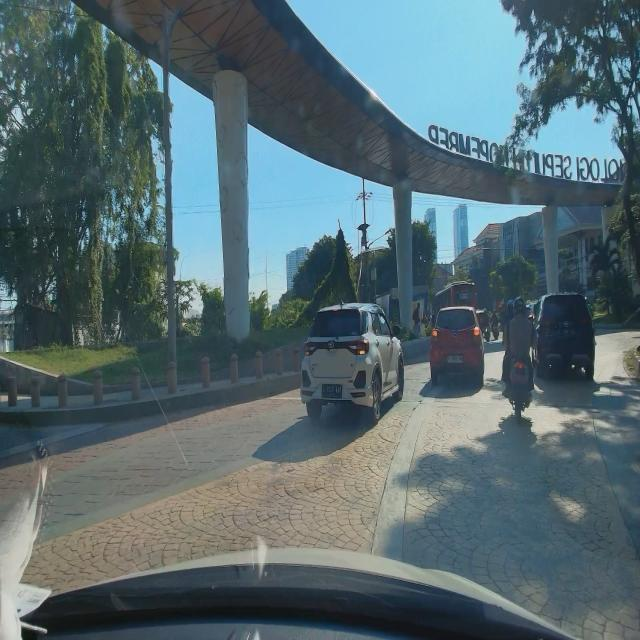car: (299, 298, 405, 424), (528, 291, 597, 381), (430, 304, 484, 388)
license-plate: (322, 384, 342, 398), (447, 354, 463, 364)
